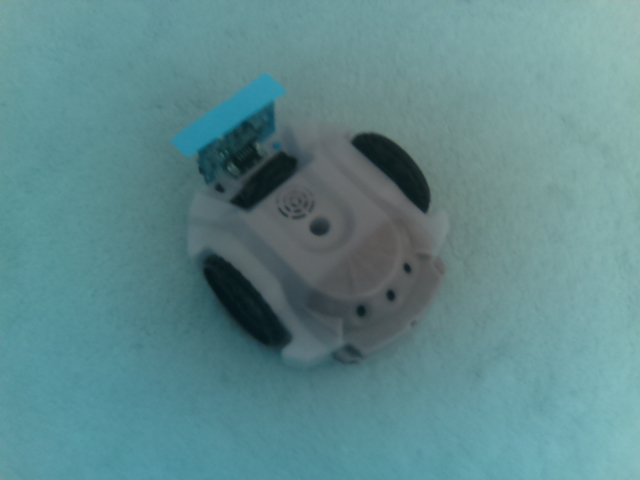board: (171, 68, 288, 160)
chassis: (174, 66, 451, 373)
